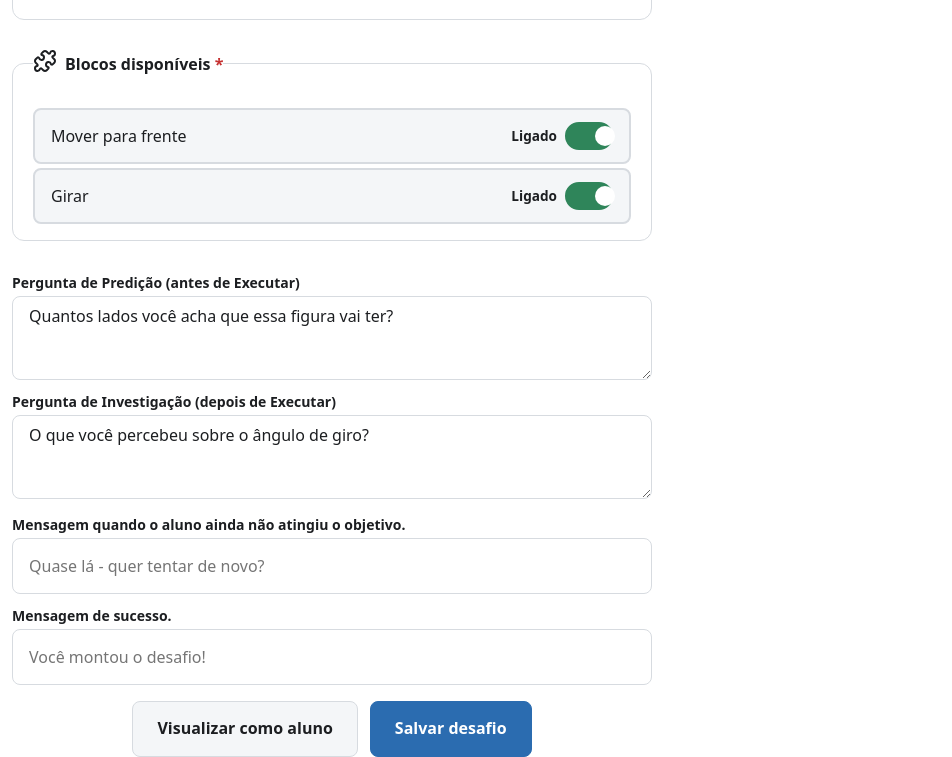
Scenario: TemplateChallengeForm › focuses the title field and shows a toast when the professor tries to save without a title, instead of silently doing nothing
(page scrolled)
Click the button "Salvar desafio" at (451, 729), box top-left (370, 701), bottom-right (532, 756)
(page scrolled)
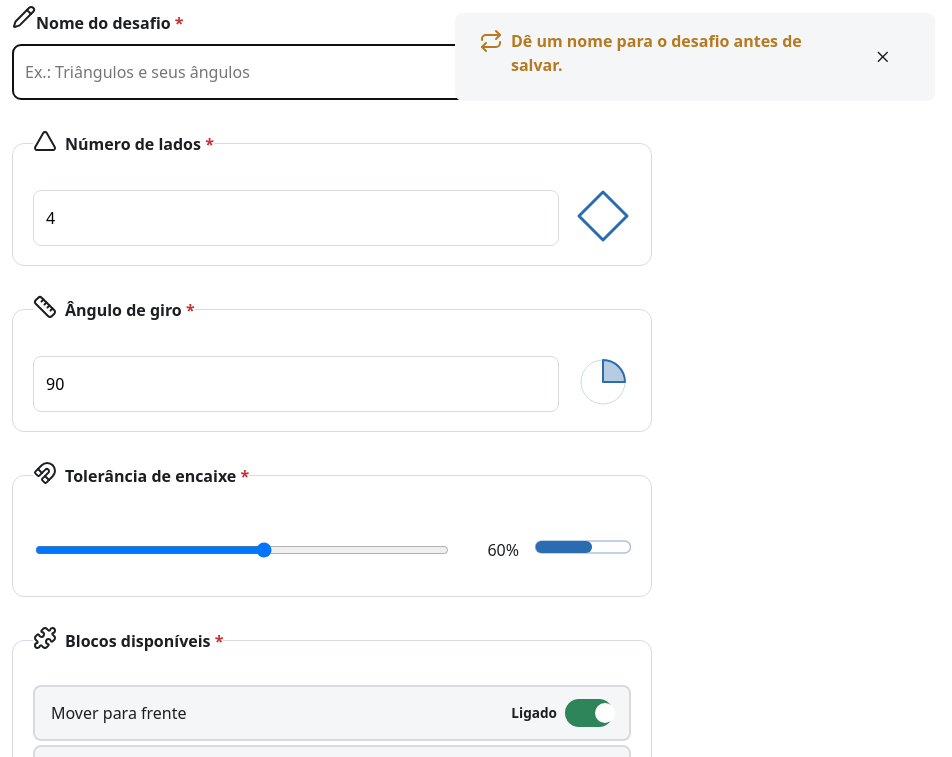
Expected: the message reads "Dê um nome para o desafio antes de salvar.", top-left (511, 30), bottom-right (802, 76)
